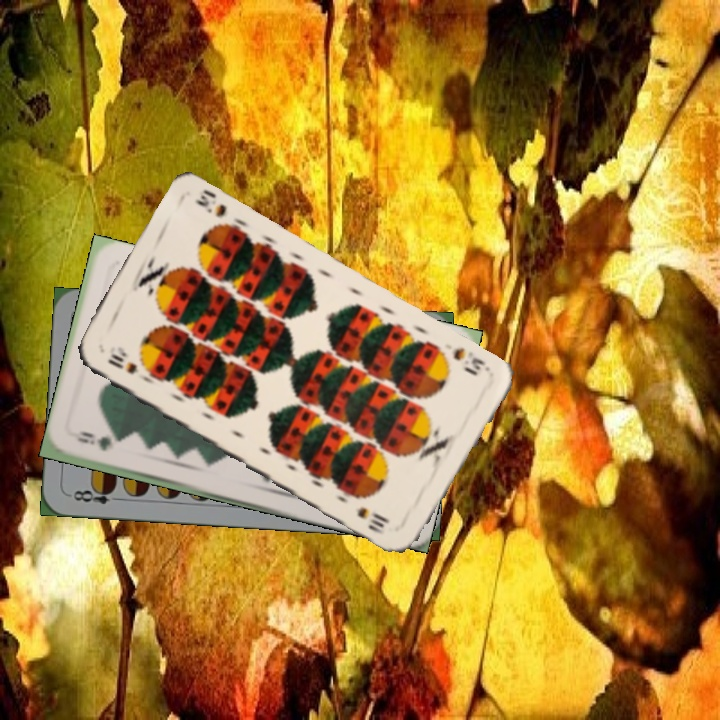E8: (69, 483, 125, 507)
G9: (72, 430, 114, 453)
S10: (448, 343, 488, 379), (104, 349, 142, 377)
